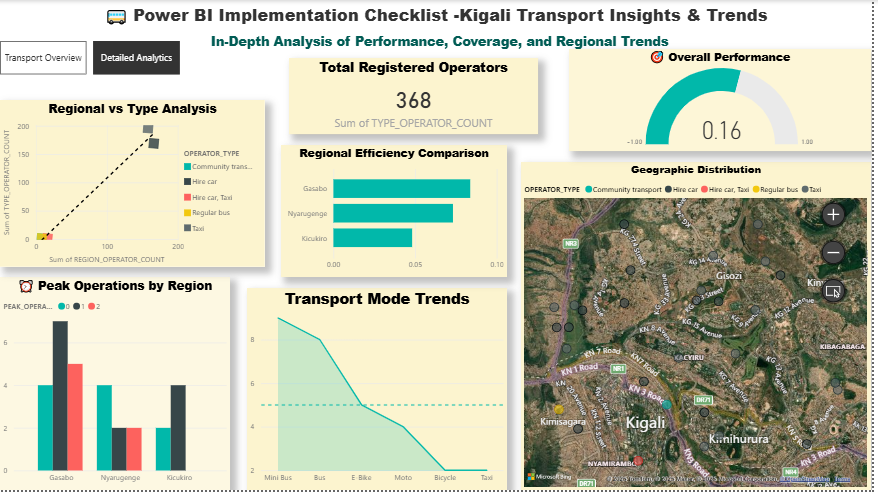

What the dashboard file says about the page in this screenshot:
{"tool":"powerbi","page":{"name":"Detailed Analytics","canvas":[1280,720],"ordinal":1},"visuals":[{"type":"clusteredColumnChart","title":"⏰ Peak Operations by Region","fields":{"Category":["kigali_transport_analysis_results.REGIONS"],"Y":["CountNonNull(kigali_transport_analysis_results.OPERATOR_NAME)"],"Series":["kigali_transport_analysis_results.PEAK_OPERATIONS_COUNT"]},"box":[0,407,338,313],"z":0},{"type":"map","title":"Geographic Distribution","fields":{"Y":["kigali_transport_analysis_results.LATITUDE"],"X":["kigali_transport_analysis_results.LONGITUDE"],"Series":["kigali_transport_analysis_results.OPERATOR_TYPE"]},"box":[765.6,238,514.3,482],"z":1000},{"type":"card","title":"Total Registered Operators","fields":{"Values":["Sum(kigali_transport_analysis_results.TYPE_OPERATOR_COUNT)"]},"box":[424.7,85.2,365.9,111.7],"z":2000},{"type":"gauge","title":"🎯 Overall Performance","fields":{"Y":["kigali_transport_analysis_results.Avg_Efficiency_Score"]},"box":[836.1,72,443.8,149.9],"z":3000},{"type":"lineChart","title":"Transport Mode Trends","fields":{"Category":["kigali_transport_analysis_results.TRANSPORT_MODE"],"Y":["kigali_transport_analysis_results.Operators_Per_Mode"]},"box":[362.9,423.2,382,296.8],"z":4000},{"type":"scatterChart","title":"Regional vs Type Analysis","fields":{"Y":["Sum(kigali_transport_analysis_results.TYPE_OPERATOR_COUNT)"],"Series":["kigali_transport_analysis_results.OPERATOR_TYPE"],"X":["Sum(kigali_transport_analysis_results.REGION_OPERATOR_COUNT)"]},"box":[0,146.9,389.4,245.4],"z":5000},{"type":"clusteredBarChart","title":"Regional Efficiency Comparison","fields":{"Category":["kigali_transport_analysis_results.REGIONS"],"Y":["kigali_transport_analysis_results.Efficiency_Score_Measure"]},"box":[412.9,213.1,332.1,194],"z":6000},{"type":"pageNavigator","box":[0,60.2,264.5,50],"z":7000},{"type":"textbox","box":[107.3,0,1068.2,60.2],"z":8000},{"type":"textbox","box":[260.1,41.1,765.6,44.1],"z":9000}]}

Visuals, with their boxes in screenshot pixels (x1, y1, x2, y2), scaled from the page's 1280x720 canvas onto the 878x498 screenshot:
"⏰ Peak Operations by Region" clusteredColumnChart: region(0, 282, 232, 497)
"Geographic Distribution" map: region(525, 165, 877, 497)
"Total Registered Operators" card: region(291, 59, 542, 136)
"🎯 Overall Performance" gauge: region(574, 50, 877, 153)
"Transport Mode Trends" lineChart: region(249, 293, 511, 497)
"Regional vs Type Analysis" scatterChart: region(0, 102, 267, 271)
"Regional Efficiency Comparison" clusteredBarChart: region(283, 147, 511, 282)
pageNavigator: region(0, 42, 181, 76)
textbox: region(74, 0, 806, 42)
textbox: region(178, 28, 704, 59)
